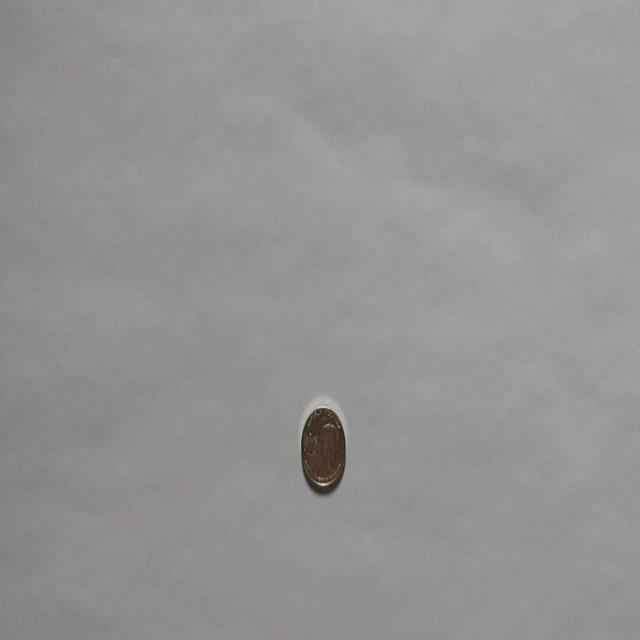seratus rupiah: (299, 404, 346, 492)
